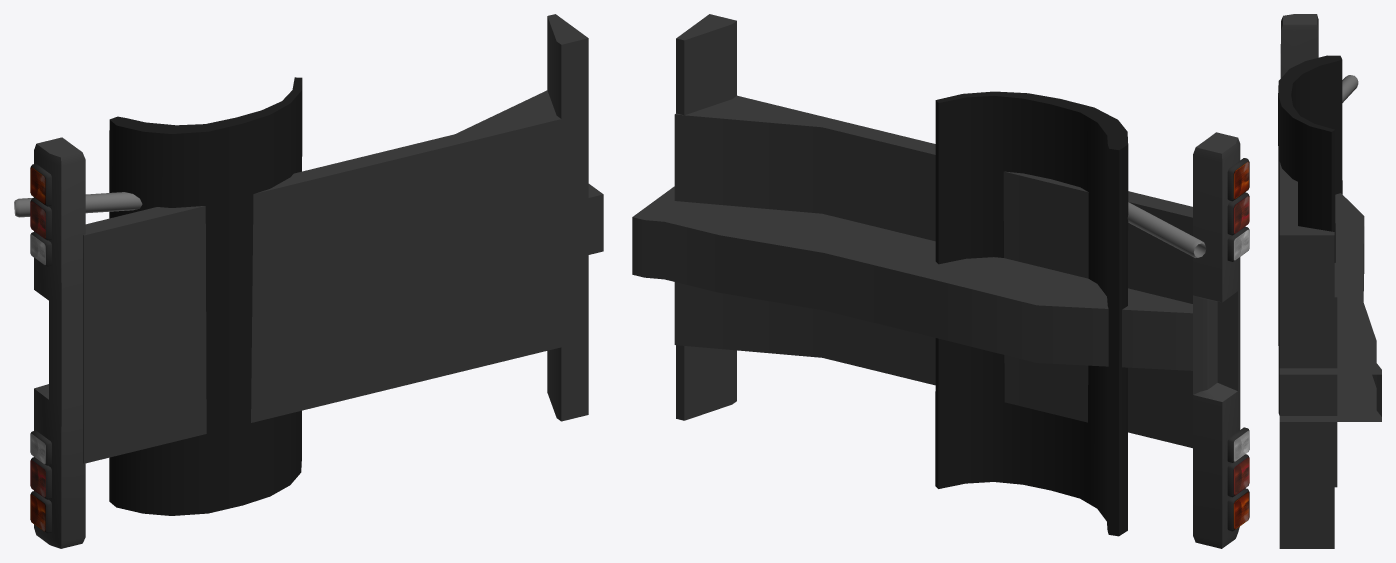
File: bed_details.obj
3 renders of one model, left to right at view 1: azimuth 30°, elevation 25°; view 2: azimuth 150°, elevation 25°; view 3: azimuth 270°, elevation 25°, orthographic. The views are drawn at different scales.
Visible parts, largest first — view 1: underbody, fender, bumper, baked_flatter, black_plastic, chrome; view 2: underbody, fender, bumper, baked_flatter, black_plastic, chrome; view 3: underbody, fender, bumper, chrome.
Part boxes in pixels (box(x1,y1,x2,y2)): underbody: box(83, 14, 603, 463); fender: box(109, 77, 302, 515); bumper: box(34, 137, 85, 548); baked_flatter: box(30, 167, 45, 531); black_plastic: box(30, 163, 51, 533); chrome: box(14, 192, 142, 217); underbody: box(632, 14, 1192, 448); fender: box(935, 91, 1128, 536); bumper: box(1193, 132, 1240, 548); baked_flatter: box(1233, 161, 1249, 529); black_plastic: box(1227, 158, 1249, 531); chrome: box(1127, 202, 1206, 257); underbody: box(1279, 162, 1381, 548); fender: box(1278, 55, 1342, 415); bumper: box(1280, 14, 1318, 78); chrome: box(1342, 75, 1358, 102).
Size of the model in its own units: 2.11 by 1.42 by 0.4113.
Materials: 6 (1 with a texture image).
